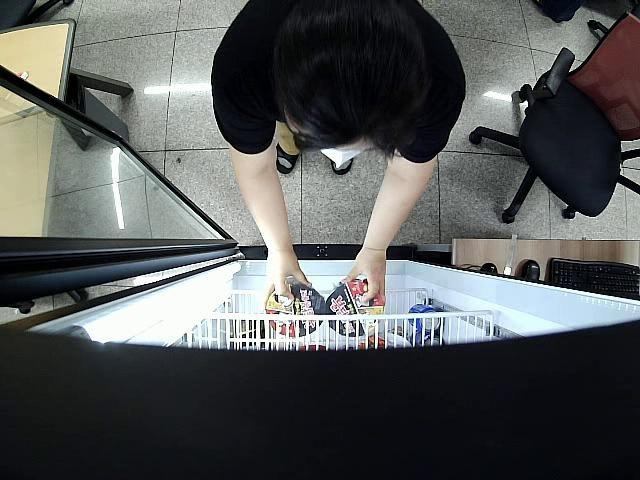07_buldak_L: (265, 282, 324, 337), (326, 281, 385, 336)
